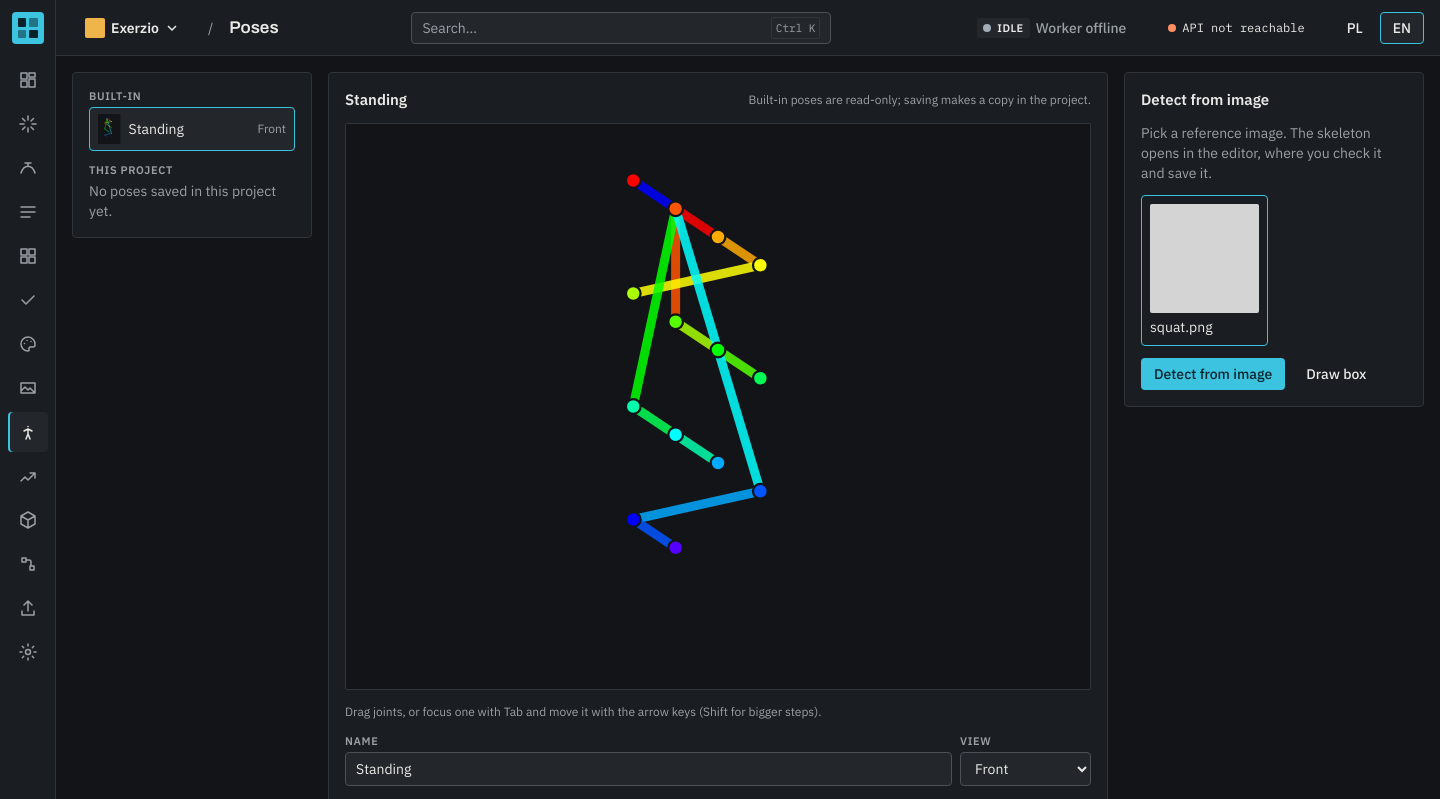
it: Poses › explains when detection is not installed and offers the manual way
This screenshot has width=1440, height=799.
Step 1. Click the button "Detect from image" → click(1213, 374), box [1141,358,1285,390]
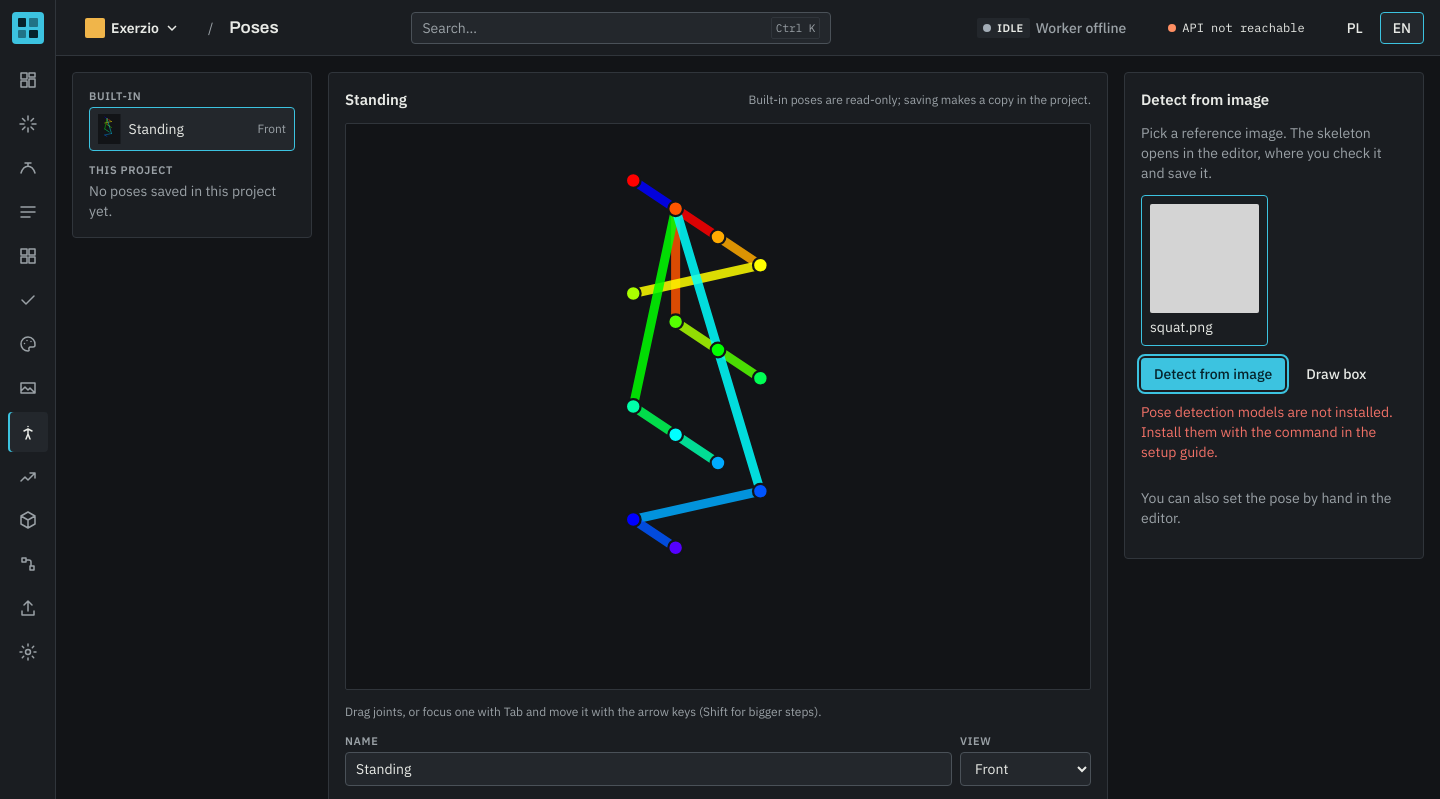
Now the message shows "Pose detection models are not installed. Install them with the command in the setup guide.", box [1141,403,1393,461]
Now the text "You can also set the pose by hand in the editor." is shown, box [1141,488,1407,528]
